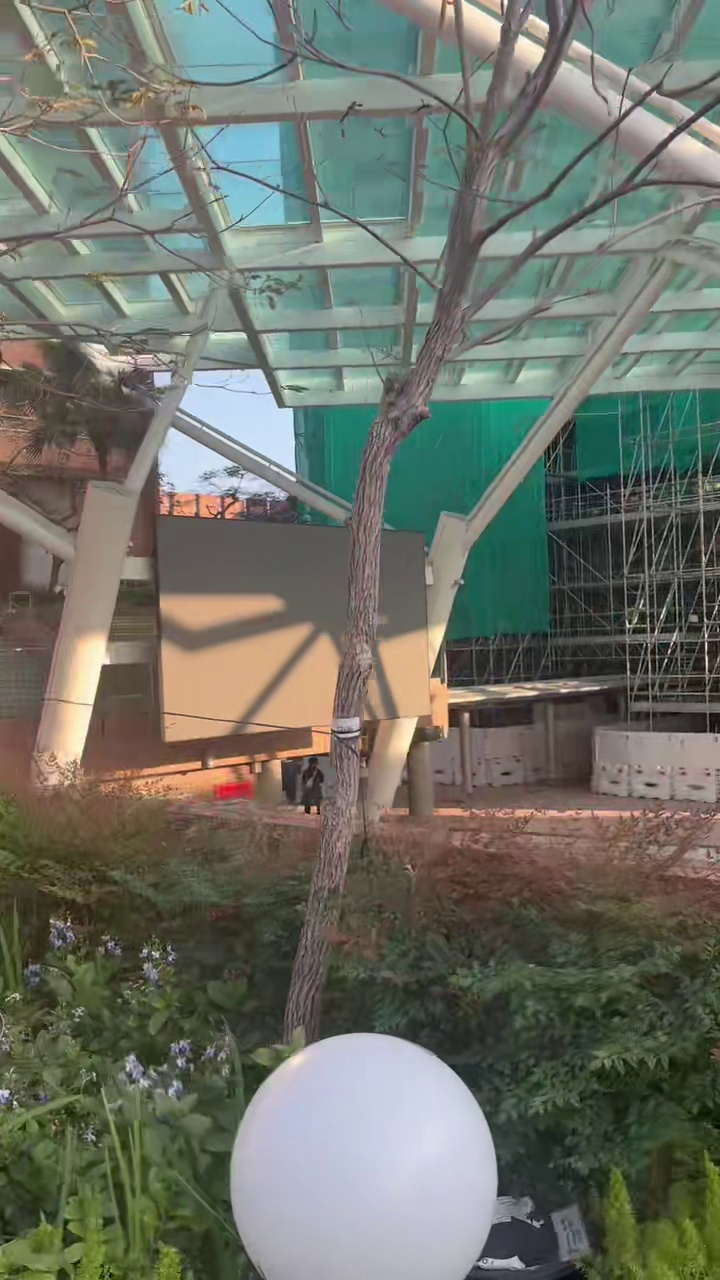Tabebuia chrysantha: (334, 0, 700, 719), (285, 737, 359, 1039)
